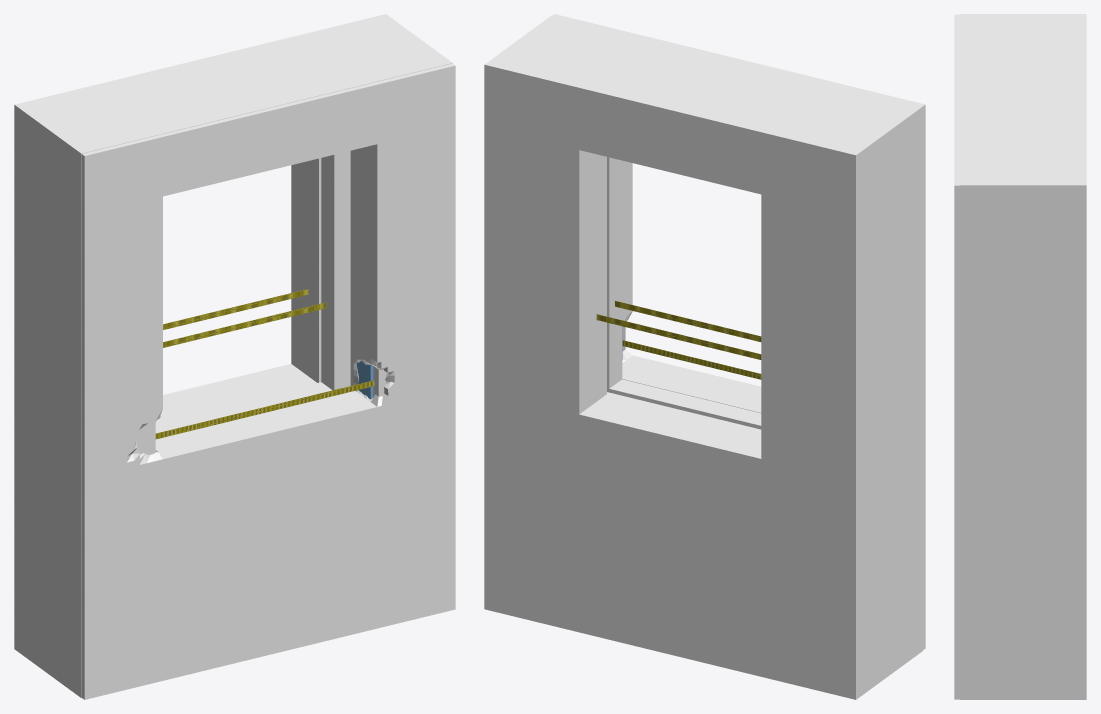
The model's file is wall.glb.
3 views of the same model, side by side, from view 1: azimuth 30°, elevation 25°; view 2: azimuth 150°, elevation 25°; view 3: azimuth 270°, elevation 25° (orthographic). The views are drawn at different scales.
Visible parts, largest first — view 1: putz, dg_neubau, il_neubau, il_altbau-outside, al_big, al_small, bandmass_il, bandmass_al, bandmass_dg; view 2: dg_neubau, il_neubau, il_altbau-outside, al_small, putz, al_big, bandmass_dg, bandmass_al, bandmass_il; view 3: dg_neubau, il_neubau, al_big, il_altbau-outside, putz, al_small.
Part boxes in pixels (box(x1,y1,x2,y2)): putz: box(81, 63, 455, 699); dg_neubau: box(14, 14, 413, 668); il_neubau: box(42, 34, 452, 697); il_altbau-outside: box(57, 50, 451, 697); al_big: box(47, 36, 426, 390); al_small: box(44, 36, 428, 529); bandmass_il: box(155, 380, 374, 439); bandmass_al: box(163, 302, 326, 347); bandmass_dg: box(163, 289, 308, 329); dg_neubau: box(484, 44, 883, 699); il_neubau: box(512, 15, 922, 679); il_altbau-outside: box(529, 16, 922, 667); al_small: box(516, 33, 898, 674); putz: box(552, 14, 925, 649); al_big: box(515, 33, 898, 388); bandmass_dg: box(596, 314, 761, 359); bandmass_al: box(615, 300, 761, 341); bandmass_il: box(622, 340, 761, 379); dg_neubau: box(1033, 14, 1086, 699); il_neubau: box(960, 14, 1033, 699); al_big: box(1005, 14, 1029, 699); il_altbau-outside: box(960, 14, 1005, 699); putz: box(954, 14, 959, 699); al_small: box(1005, 14, 1029, 275).
Size of the model in its own units: 200 by 280 by 65.13.
7 materials, 1 textured.
